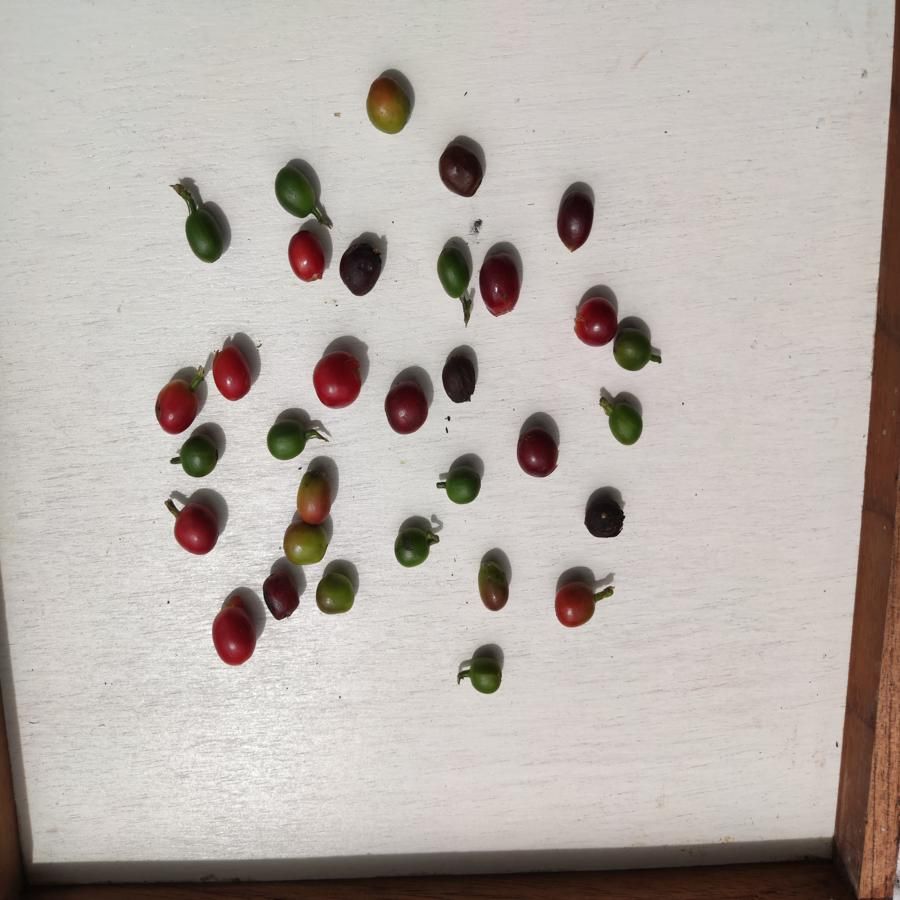Inmaduro: (180, 204, 226, 268), (274, 166, 325, 223), (433, 246, 473, 301), (613, 328, 655, 376), (266, 417, 309, 460), (180, 434, 220, 479), (392, 525, 432, 569), (608, 403, 646, 445), (441, 468, 483, 506), (464, 657, 505, 695)
Maduro: (314, 348, 364, 408), (209, 605, 258, 666), (150, 379, 204, 433), (171, 504, 226, 557), (554, 581, 608, 630), (285, 231, 328, 284), (212, 349, 255, 400), (576, 299, 618, 348)
Pinton: (362, 75, 410, 133), (315, 571, 358, 619), (282, 519, 327, 564), (476, 559, 514, 610), (296, 472, 331, 525)
Sobremaduro: (436, 144, 487, 199), (477, 254, 523, 314), (517, 427, 565, 483), (554, 187, 595, 249), (339, 241, 386, 295), (383, 380, 428, 436), (438, 352, 480, 405), (582, 494, 626, 541), (261, 570, 300, 621)
